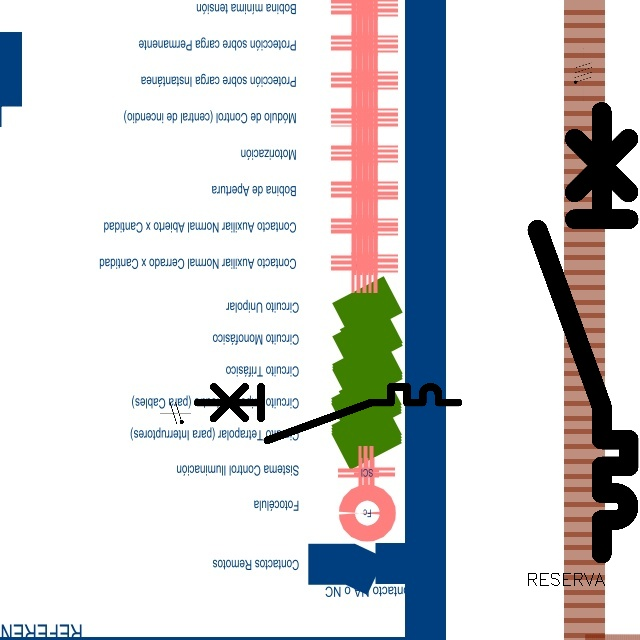interruptor_termomagnetico: (526, 100, 640, 564), (191, 380, 465, 447)
